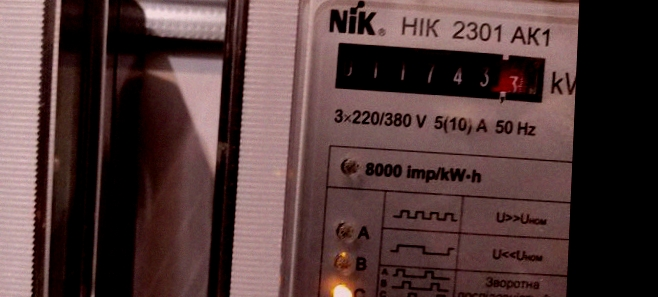0: (340, 50, 355, 78)
1: (367, 52, 382, 80), (395, 54, 409, 82)
3: (475, 61, 491, 89), (504, 73, 520, 94)
4: (450, 61, 465, 87)
7: (422, 58, 437, 84)
screen: (326, 36, 554, 110)
